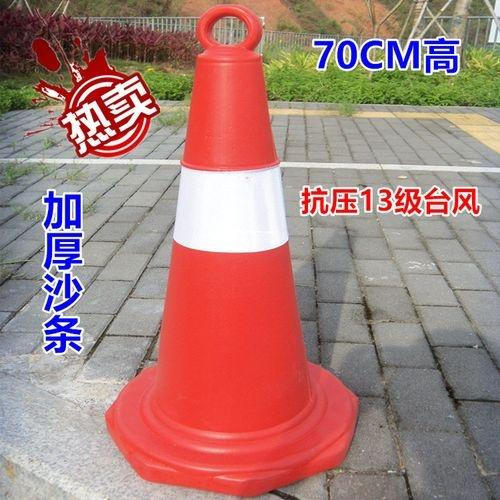cone_barrel: (127, 2, 328, 464)
